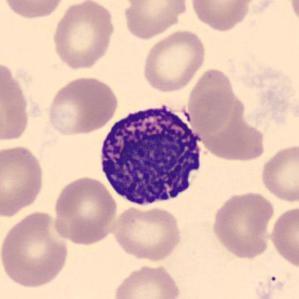Basophil: (95, 97, 209, 211)
RBC: (0, 209, 71, 290), (191, 92, 266, 161), (50, 174, 119, 245), (50, 0, 117, 71), (209, 188, 275, 260), (44, 74, 119, 137), (140, 28, 208, 94), (110, 204, 184, 262), (185, 65, 237, 134), (0, 143, 46, 219), (0, 56, 32, 145), (120, 0, 190, 40), (111, 261, 182, 299), (258, 143, 298, 204), (188, 0, 256, 32), (268, 204, 298, 270), (1, 0, 69, 21), (285, 0, 299, 29)
